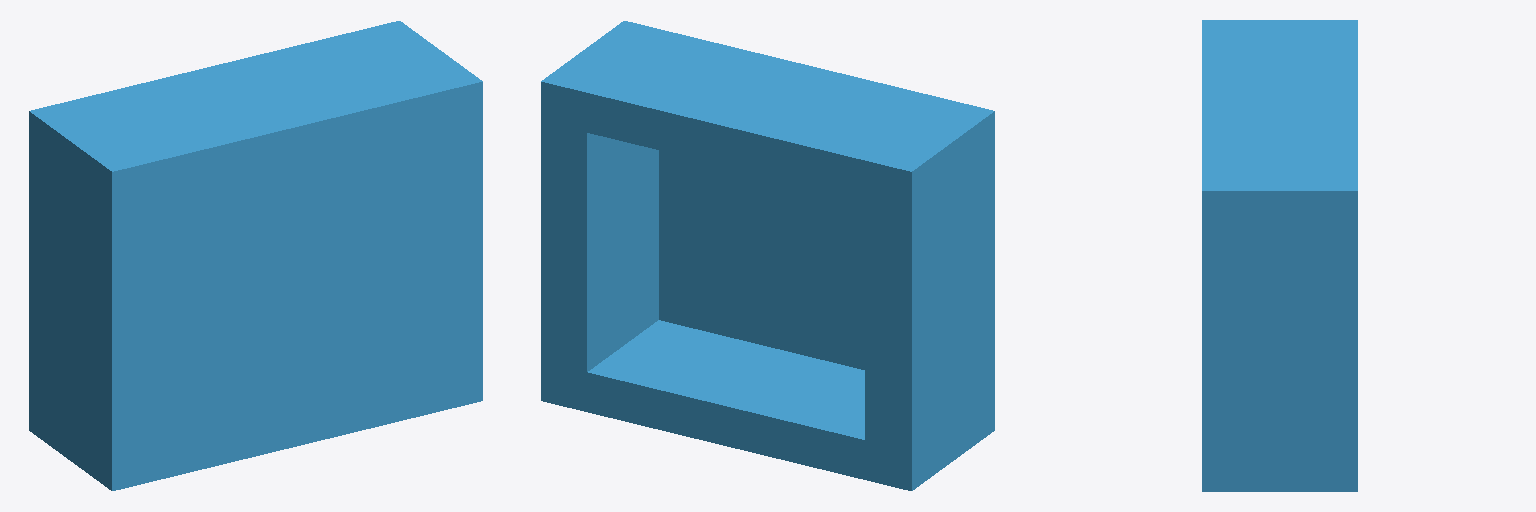
robot.urdf — partnet_c3bb5f3c842a6c2d178e7d331e641179:
<?xml version="1.0" ?>
<robot name="partnet_c3bb5f3c842a6c2d178e7d331e641179">
	<link name="simple_container_base"/>
	<link name="simple_container">
		<visual name="door_frame-6">
			<origin xyz="0 0 0 "/>
			<geometry>
				<mesh filename="simple_container.obj"/>
			</geometry>
		</visual>
		<collision>
			<origin xyz="0 0 0 "/>
			<geometry>
				<mesh filename="simple_container_collision.obj"/>
			</geometry>
		</collision>
	</link>	
  <joint name="joint_0" type="fixed">
		<origin xyz="0 0 0"/>
		<axis xyz="0 -1 0"/>
		<child link="simple_container_base"/>
		<parent link="simple_container"/>
	</joint>

</robot>

--- What the picture shows (computed from the rendered views, not written in the file) ---
The picture shows the robot from 3 angles, left to right: view 1: azimuth 30°, elevation 25°; view 2: azimuth 150°, elevation 25°; view 3: azimuth 270°, elevation 25°; orthographic projection.
Robot: partnet_c3bb5f3c842a6c2d178e7d331e641179 — 2 links, 1 joints (1 fixed); root link simple_container; default pose: all joints at 0.
Visible links, largest first — view 1: simple_container; view 2: simple_container; view 3: simple_container.
Link boxes in pixels (bbox=[...]): simple_container: bbox=[29, 21, 482, 490]; simple_container: bbox=[541, 21, 994, 490]; simple_container: bbox=[1202, 20, 1357, 491].
Bounding box of the posed robot: 1.4 × 0.5467 × 1.16 m (x, y, z).
1 mesh visuals loaded from 1 distinct referenced files (1 OBJ).